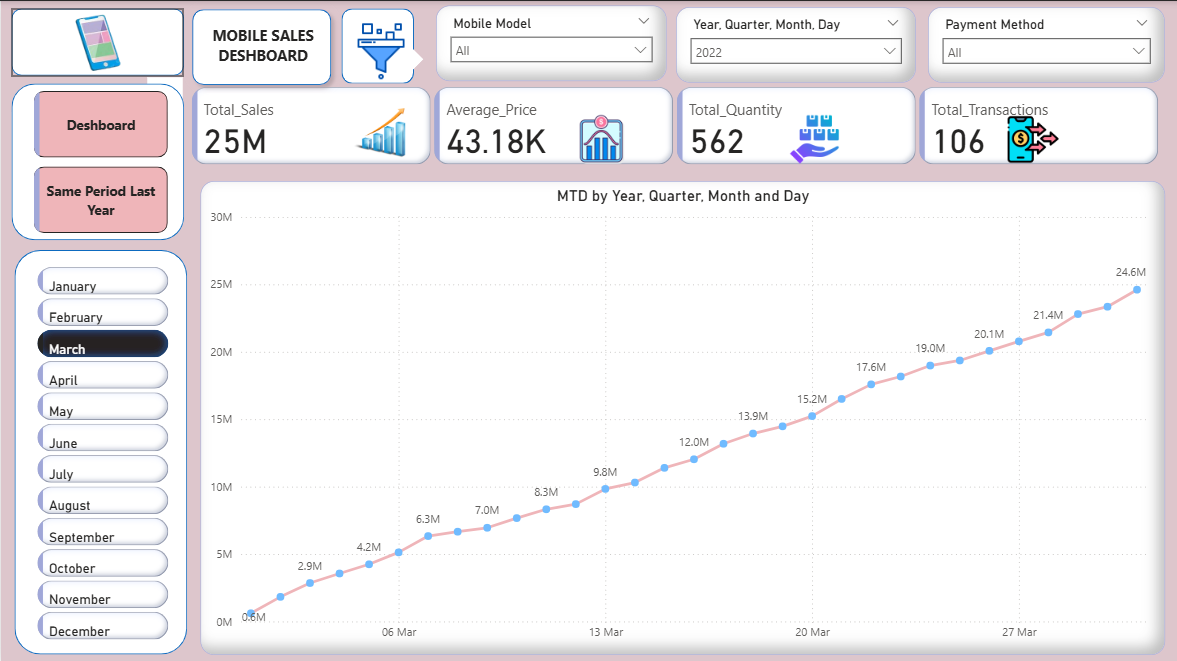

This screenshot's page, from the dashboard's own definition file:
{"tool":"powerbi","page":{"name":"MTD Report","canvas":[1280,720],"ordinal":1},"visuals":[{"type":"shape","box":[11.4,8.6,187.1,72.9],"z":0},{"type":"image","box":[61.8,0,89.5,89.5],"z":1000},{"type":"shape","box":[11.4,90,187.1,170],"z":2000},{"type":"cardVisual","fields":{"Data":["Moblie_Sales_data.Total_Sales","Moblie_Sales_data.Average_Price","Moblie_Sales_data.Total_Quantity","Moblie_Sales_data.Total_Transactions"]},"box":[201.7,87.8,1060.5,94.3],"z":3000},{"type":"image","box":[340,108.6,142.9,65.7],"z":4000},{"type":"image","box":[580,117.1,141.4,65.7],"z":5000},{"type":"image","box":[848.6,117.1,65.7,65.7],"z":6000},{"type":"image","box":[1074.3,117.1,91.4,65.7],"z":7000},{"type":"slicer","fields":{"Values":["Moblie_Sales_data.Mobile Model"]},"box":[471.7,5,250,81.7],"z":8000},{"type":"slicer","fields":{"Values":["Custom_Calender.Date.Variation.Date Hierarchy.Year","Custom_Calender.Date.Variation.Date Hierarchy.Quarter","Custom_Calender.Date.Variation.Date Hierarchy.Month","Custom_Calender.Date.Variation.Date Hierarchy.Day"]},"box":[731.7,6.7,260,81.7],"z":9000},{"type":"slicer","fields":{"Values":["Moblie_Sales_data.Payment Method"]},"box":[1005,6.7,256.7,81.7],"z":10000},{"type":"shape","box":[370,8.6,78.6,81.4],"z":11000},{"type":"image","box":[332.9,17.1,157.1,72.9],"z":12000},{"type":"shape","box":[431.4,50,27.1,25.7],"z":13000},{"type":"shape","box":[198.6,0,168.6,100],"z":14000},{"type":"textbox","box":[215.7,21.4,135.7,64.3],"z":15000},{"type":"lineChart","fields":{"Category":["Custom_Calender.Date.Variation.Date Hierarchy.Year","Custom_Calender.Date.Variation.Date Hierarchy.Quarter","Custom_Calender.Date.Variation.Date Hierarchy.Month","Custom_Calender.Date.Variation.Date Hierarchy.Day"],"Y":["Moblie_Sales_data.MTD"]},"box":[216.3,195.2,1045.9,514],"z":16000},{"type":"shape","box":[14.3,270,187.1,438.6],"z":17000},{"type":"advancedSlicerVisual","fields":{"Values":["Custom_Calender.Date.Variation.Date Hierarchy.Month"]},"box":[34.3,282.9,152.9,425.7],"z":18000},{"type":"pageNavigator","box":[35.7,97.1,145.7,154.3],"z":19000}]}

Visuals, with their boxes in screenshot pixels (x1, y1, x2, y2), scaled from the page's 1280x720 canvas onto the 1177x661 screenshot:
shape: 10, 8, 183, 75
image: 57, 0, 139, 82
shape: 10, 83, 183, 239
cardVisual - Moblie_Sales_data.Total_Sales x Moblie_Sales_data.Average_Price: 185, 81, 1161, 167
image: 313, 100, 444, 160
image: 533, 108, 663, 168
image: 780, 108, 841, 168
image: 988, 108, 1072, 168
slicer - Moblie_Sales_data.Mobile Model: 434, 5, 664, 80
slicer - Custom_Calender.Date.Variation.Date Hierarchy.Year x Custom_Calender.Date.Variation.Date Hierarchy.Quarter: 673, 6, 912, 81
slicer - Moblie_Sales_data.Payment Method: 924, 6, 1160, 81
shape: 340, 8, 413, 83
image: 306, 16, 451, 83
shape: 397, 46, 422, 69
shape: 183, 0, 338, 92
textbox: 198, 20, 323, 79
lineChart - Custom_Calender.Date.Variation.Date Hierarchy.Year x Custom_Calender.Date.Variation.Date Hierarchy.Quarter: 199, 179, 1161, 651
shape: 13, 248, 185, 651
advancedSlicerVisual - Custom_Calender.Date.Variation.Date Hierarchy.Month: 32, 260, 172, 651
pageNavigator: 33, 89, 167, 231
